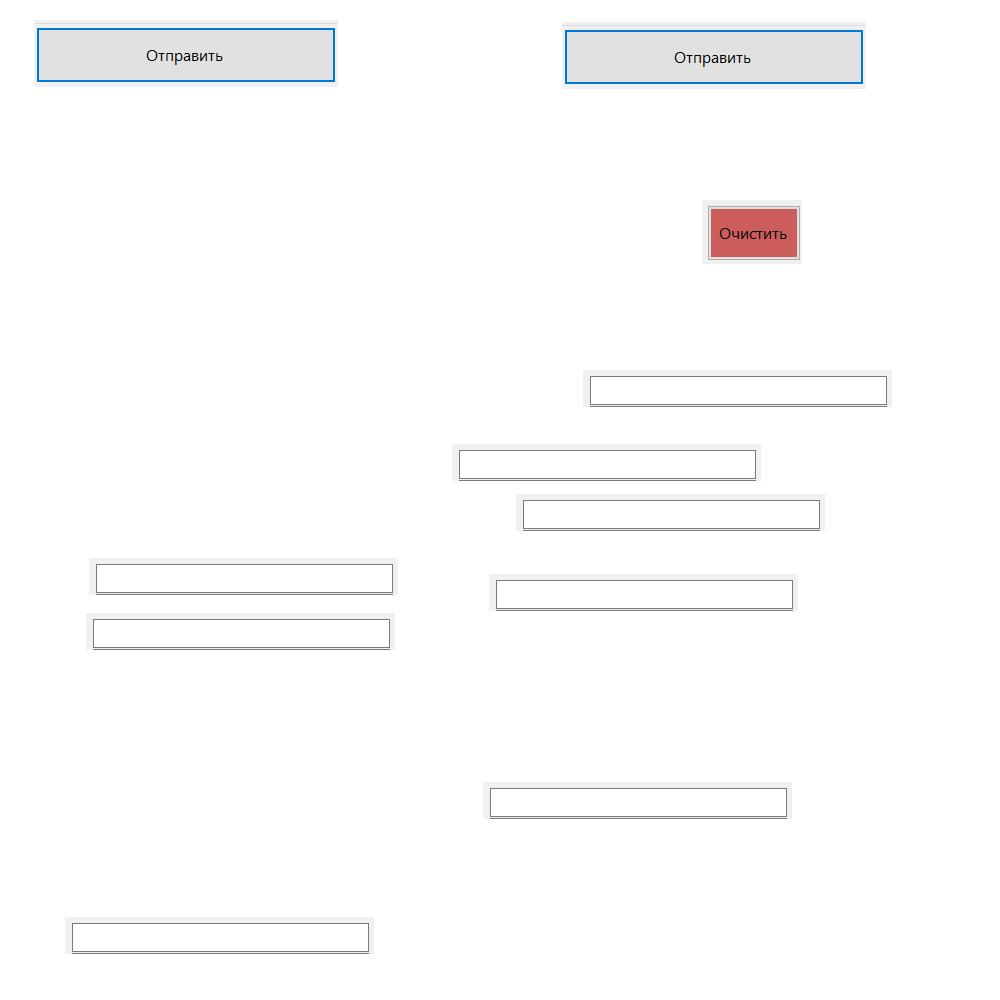Button: (34, 20, 338, 87), (562, 22, 866, 89), (702, 200, 802, 264)
EditText-: (516, 494, 825, 531), (489, 574, 798, 611), (483, 782, 792, 819), (86, 613, 395, 650), (452, 444, 761, 481), (89, 558, 398, 595), (65, 917, 374, 954), (583, 370, 892, 407)
